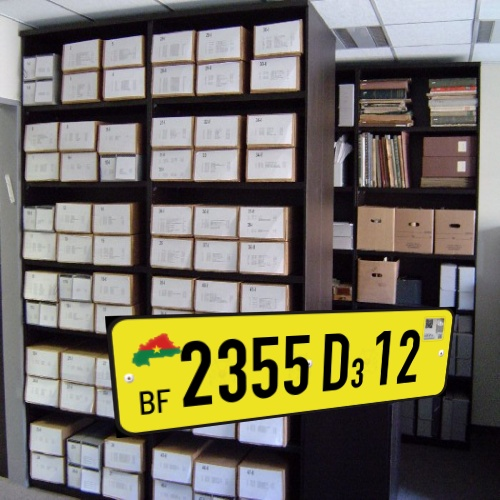plate: (94, 301, 472, 446)
